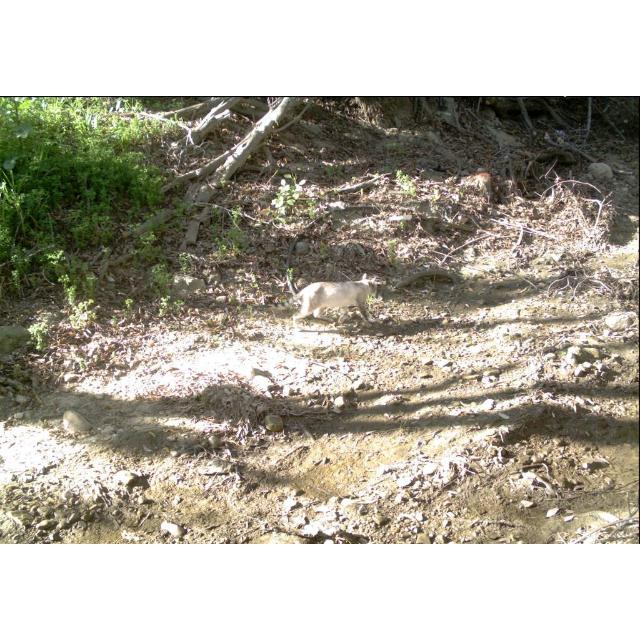animals: (291, 268, 385, 326)
